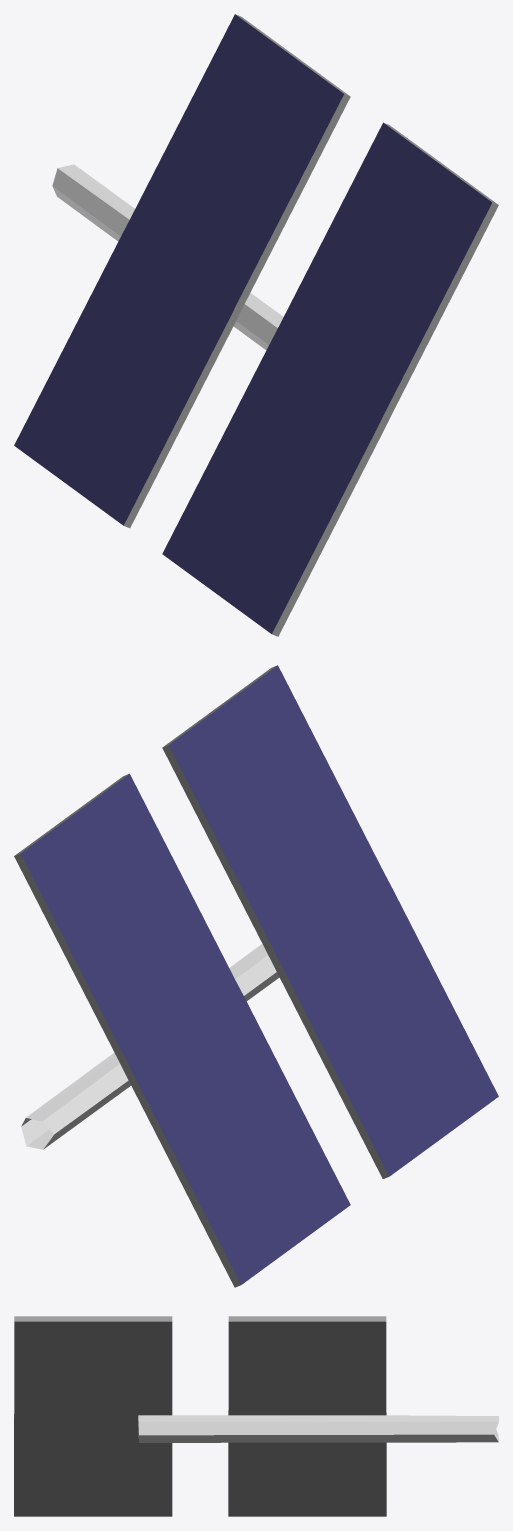
Rendered from sateliteBattery.fbx.
The picture shows the model from 3 angles, top to bottom: view 1: azimuth 30°, elevation 25°; view 2: azimuth 150°, elevation 25°; view 3: azimuth 270°, elevation 25°; orthographic projection. The views are drawn at different scales.
Parts seen in each view (by area): view 1: Circle.001; view 2: Circle.001; view 3: Circle.001.
Boxes of the visible parts, <box> form: Circle.001: <box>14,14,498,636</box>; Circle.001: <box>14,665,498,1287</box>; Circle.001: <box>14,1316,498,1516</box>.
Bounding box in the file's own units: 134 × 215 × 343.
